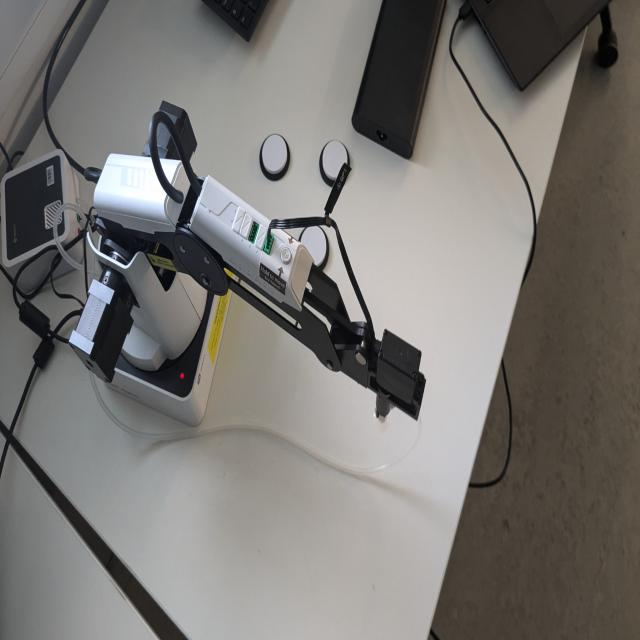Robot-end-effector-HF8z: (371, 314, 426, 432)
